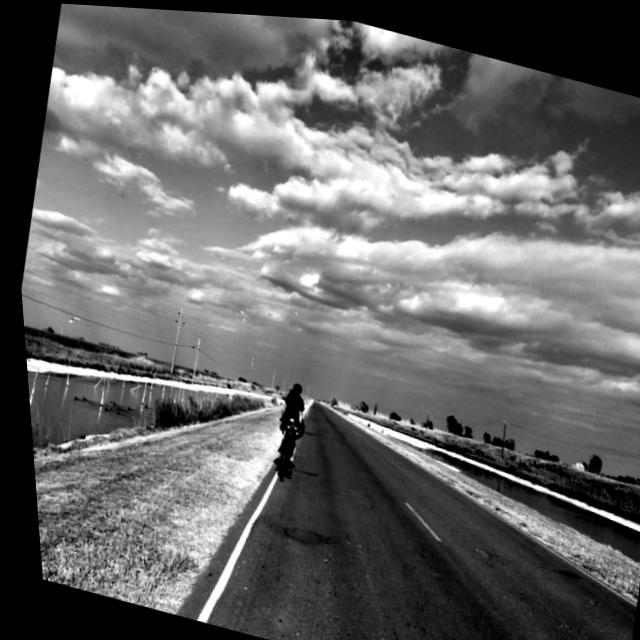cleat: (17, 248, 540, 640)
